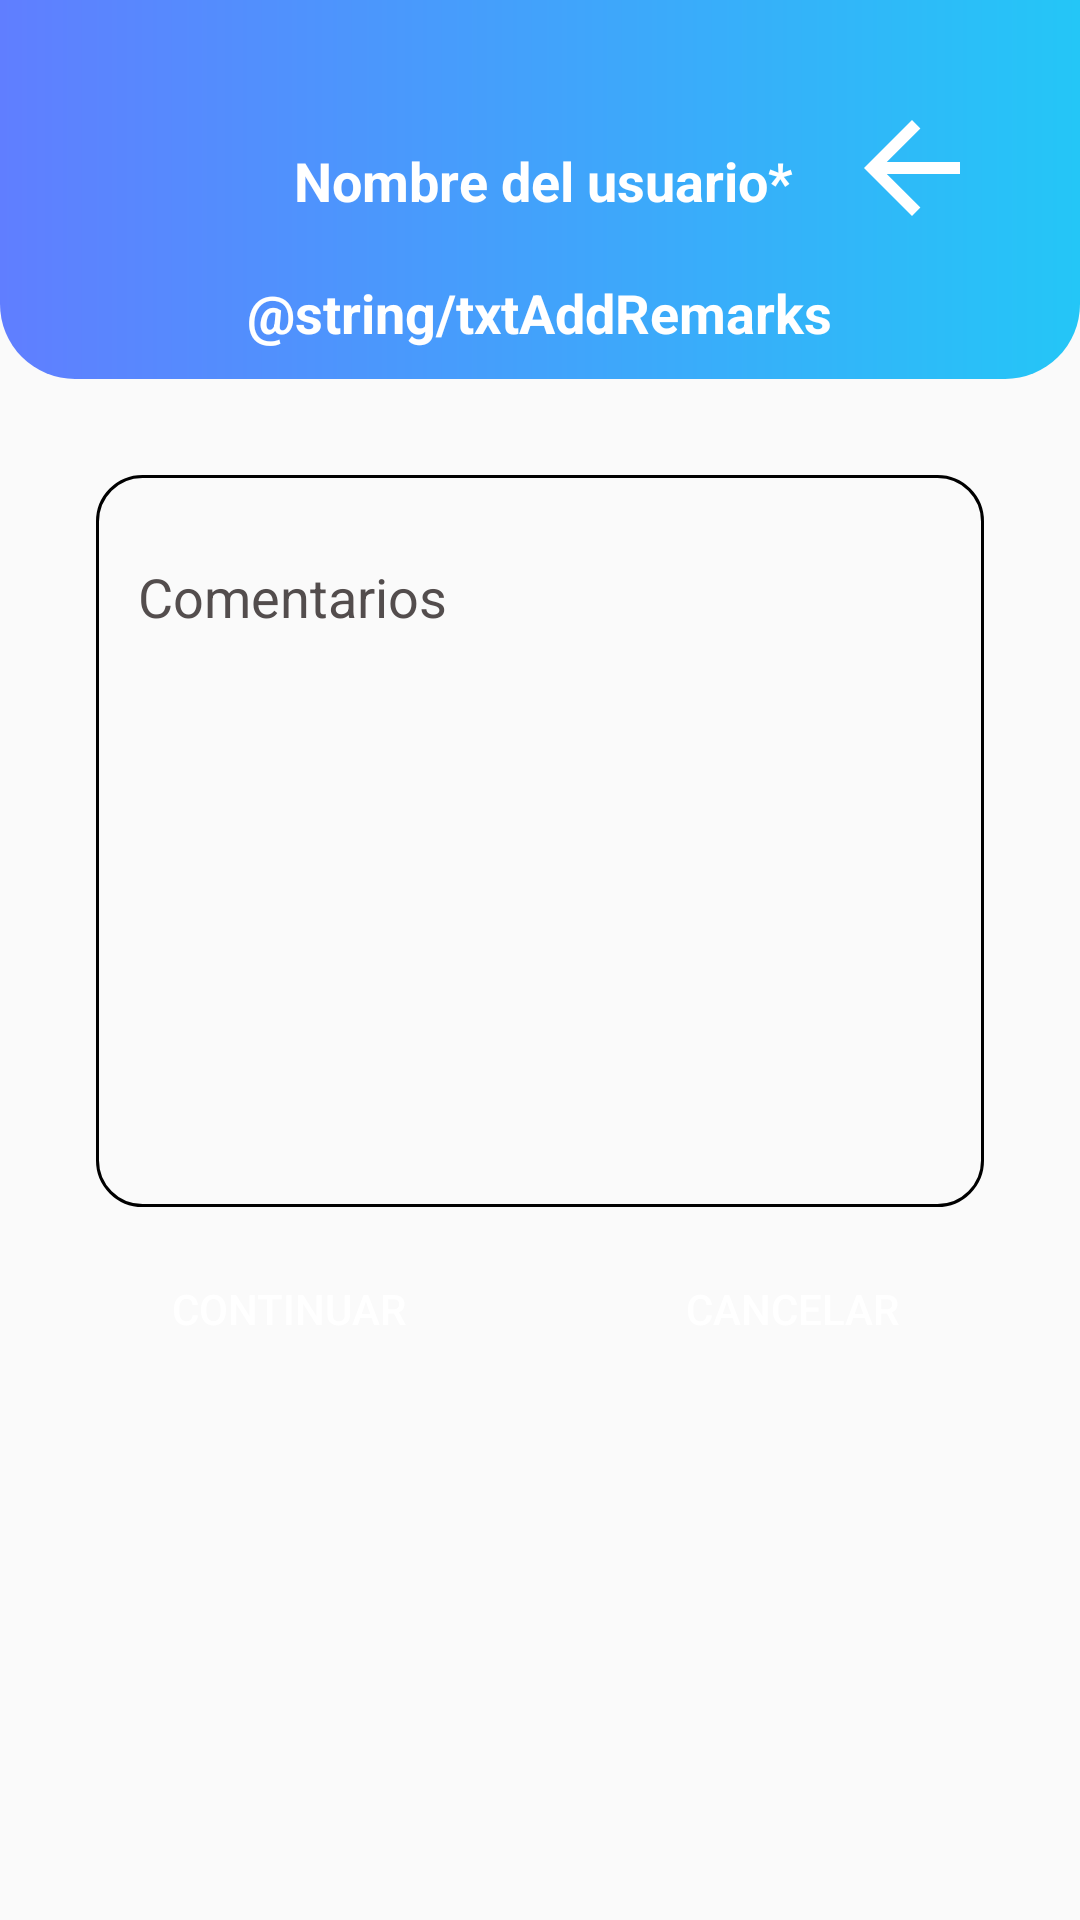

Named icons in this screenshot (1080x1920) and their bounding boxes, region(x1, y1, x2, y2):
Boton que al presionar cuelve a la pantalla anterior: region(864, 120, 960, 216)
